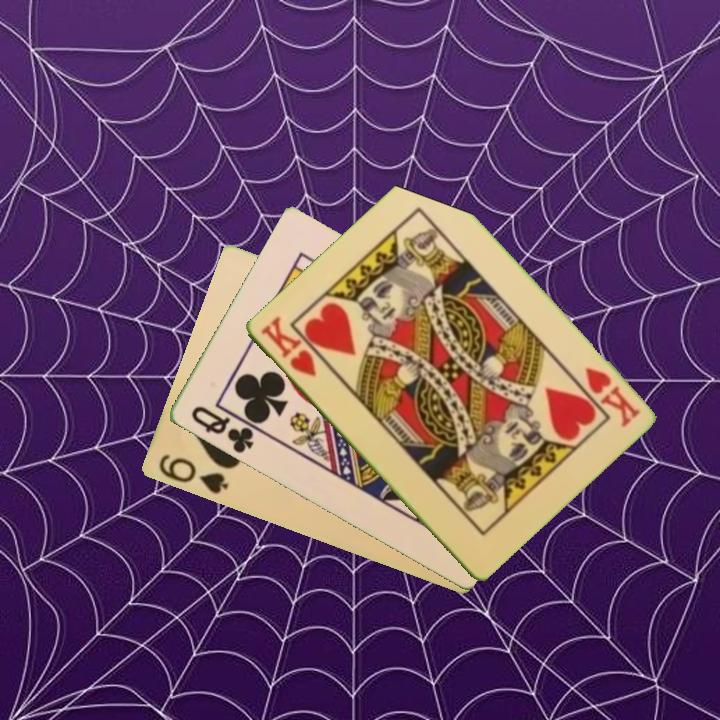6s: (154, 451, 231, 498)
Kh: (256, 312, 319, 380), (580, 363, 643, 431)
Qc: (186, 402, 264, 457)
